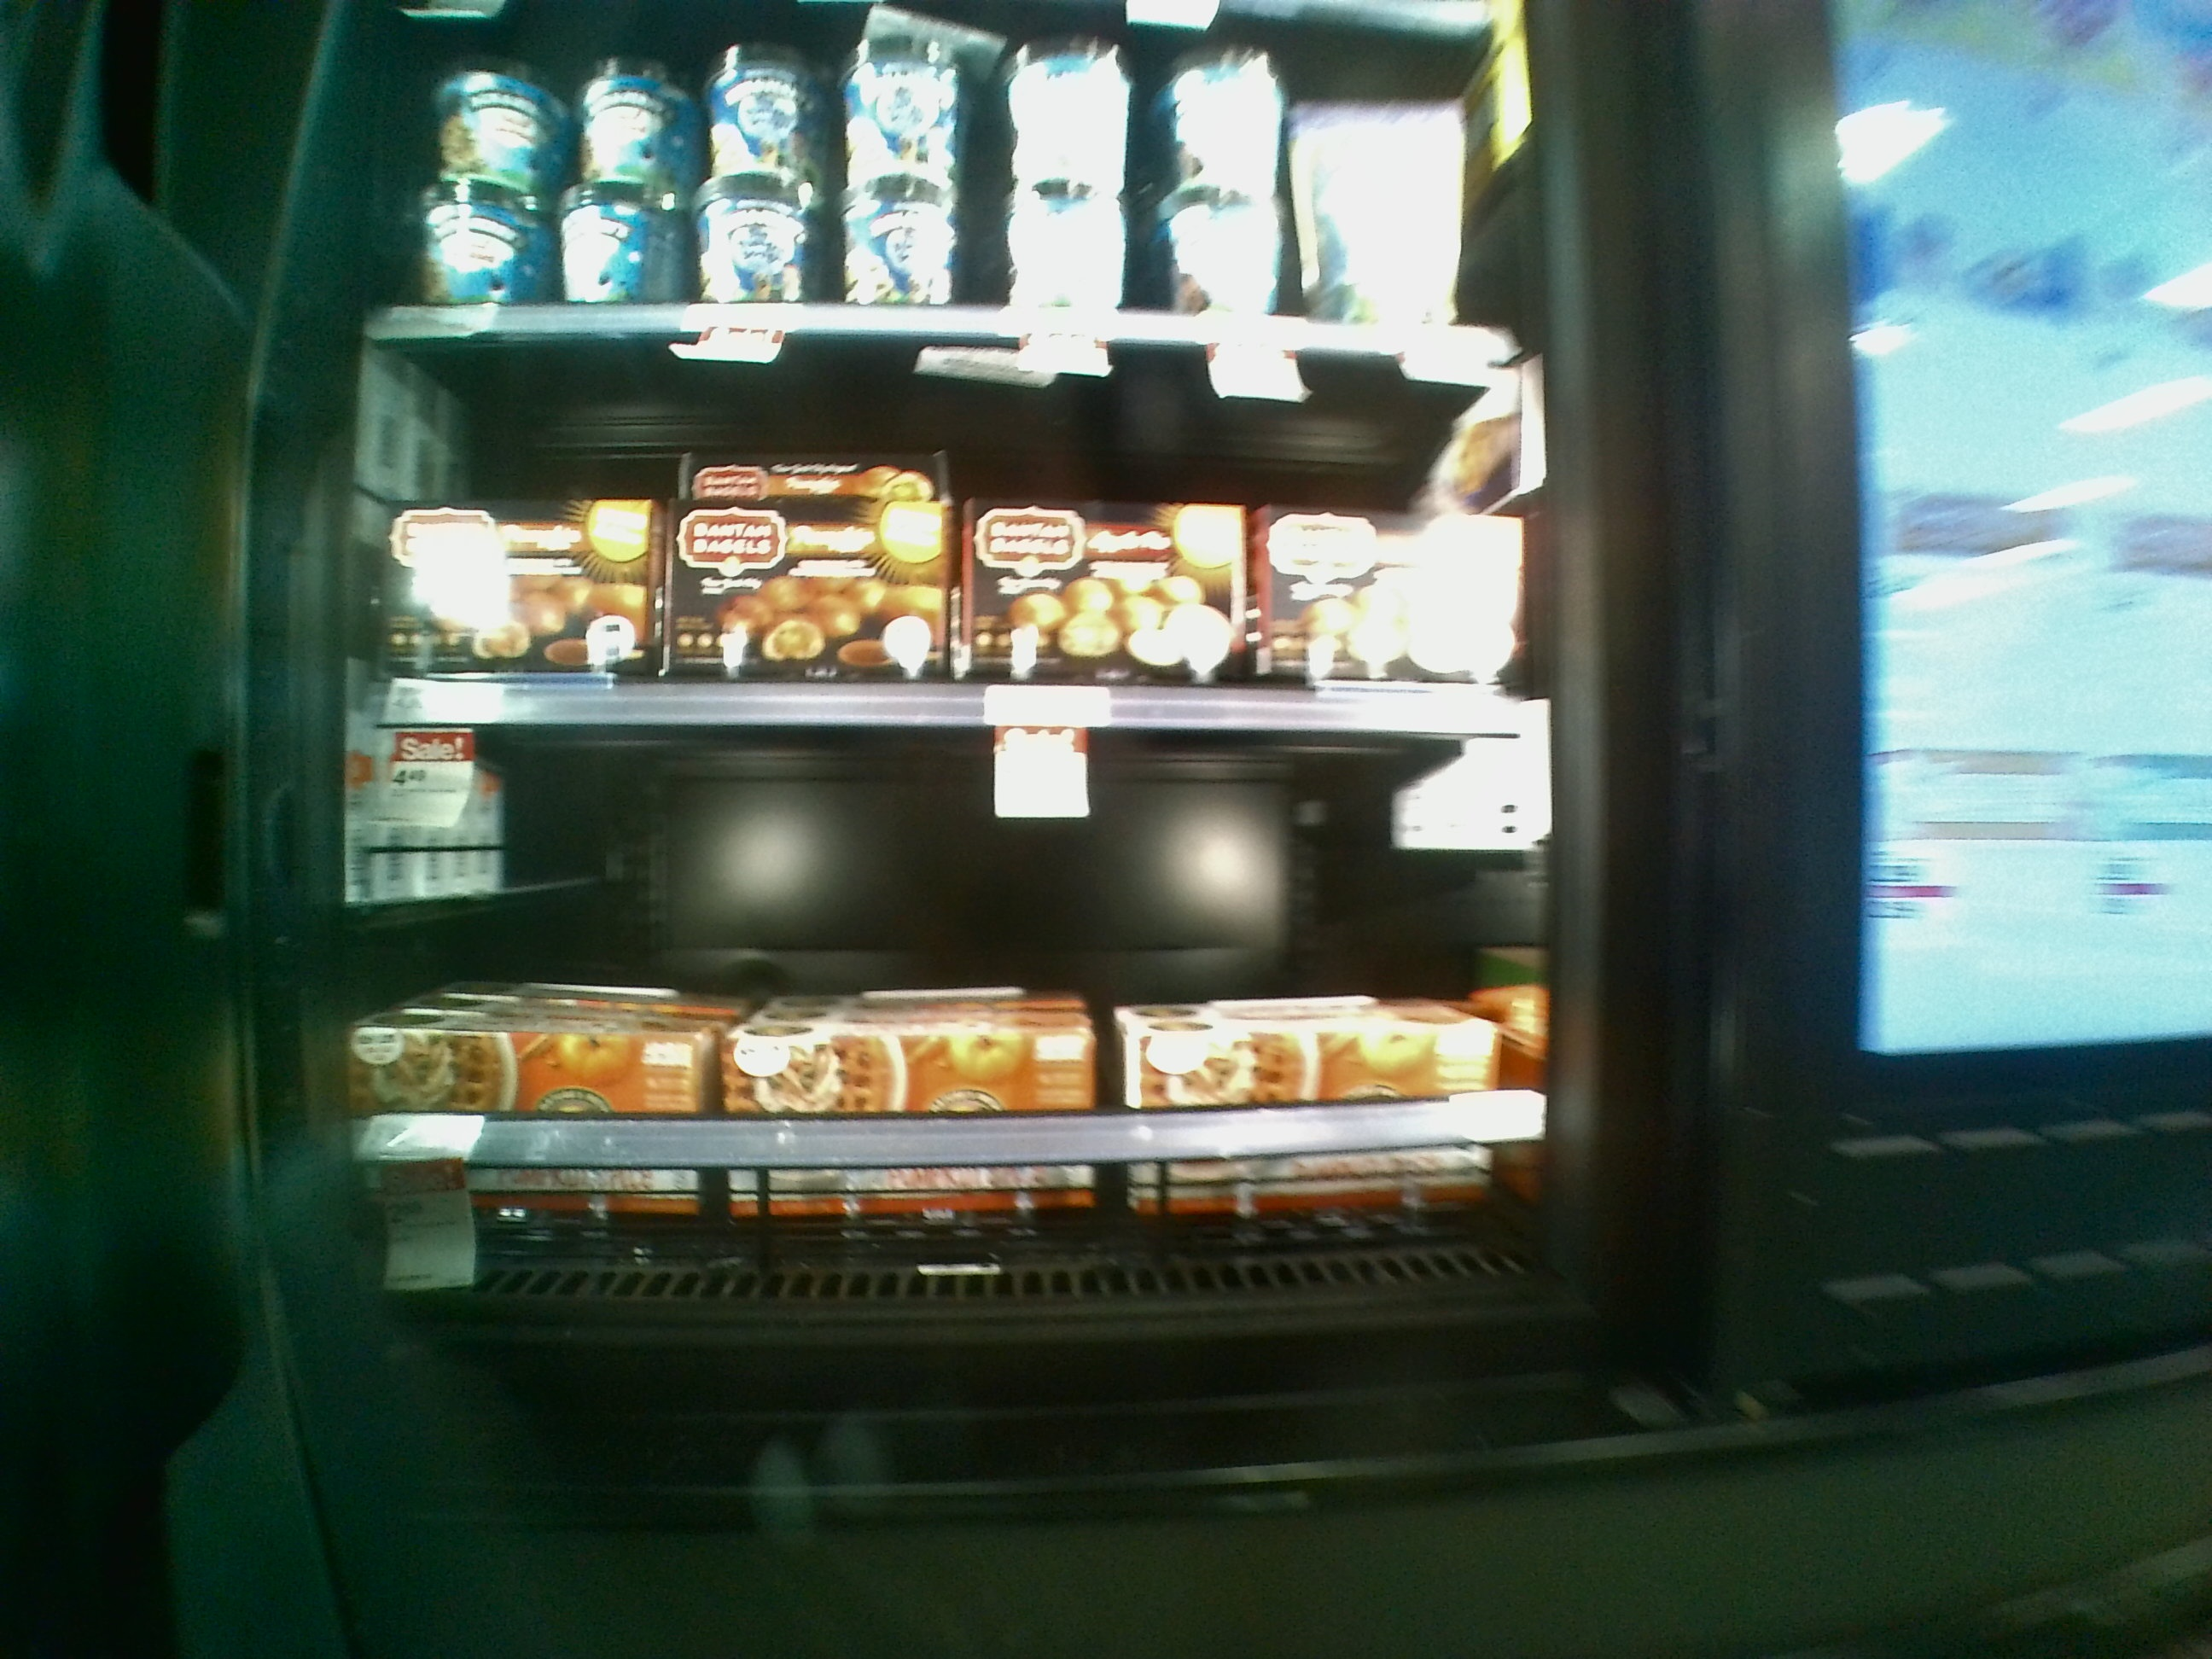shelf: (347, 688, 1545, 1319), (341, 314, 1503, 718)
